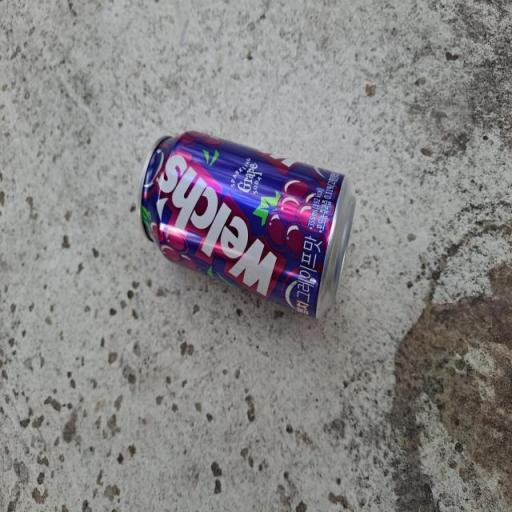metal: (111, 80, 407, 370)
